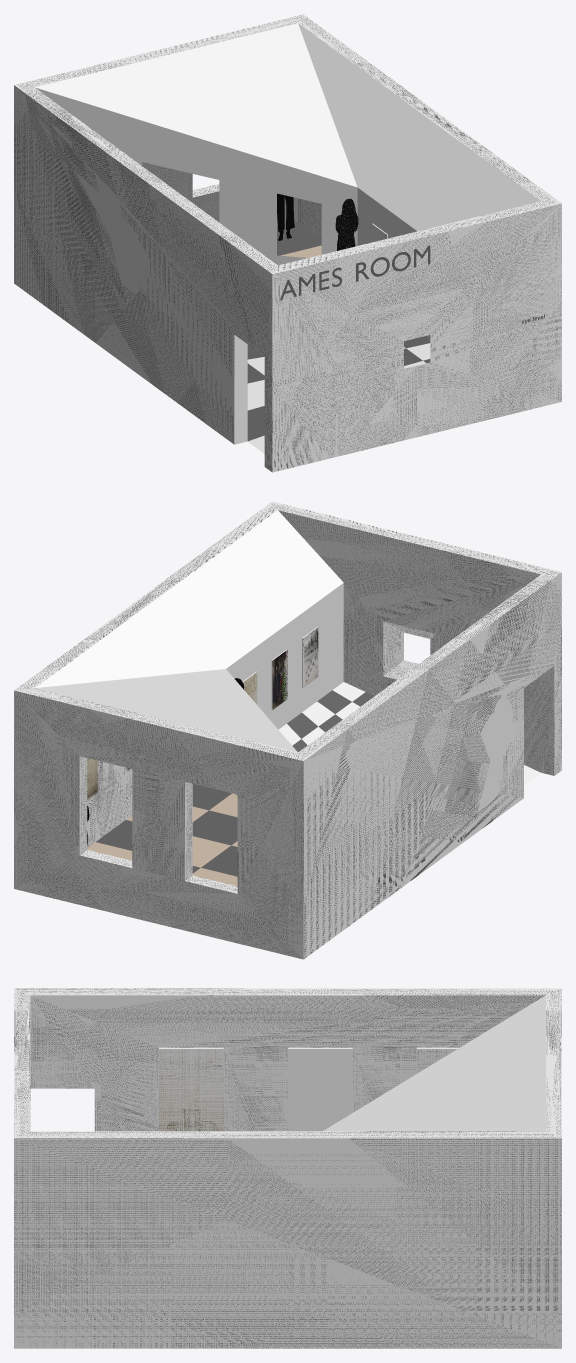
3 renders of one model, top to bottom at view 1: azimuth 30°, elevation 25°; view 2: azimuth 150°, elevation 25°; view 3: azimuth 270°, elevation 25°, orthographic. The views are drawn at different scales.
Visible parts, largest first — view 1: SketchUp (×4), _2d_silhouette__woman_standing (×2); view 2: SketchUp (×7), image_3, image_4; view 3: SketchUp (×5), image_0, image_2.
Boxes of the visible parts, bbox=[...] form: SketchUp (×4): bbox=[14, 14, 561, 472]; _2d_silhouette__woman_standing (×2): bbox=[277, 193, 358, 250]; SketchUp (×7): bbox=[14, 501, 561, 959]; image_3: bbox=[272, 650, 287, 709]; image_4: bbox=[303, 627, 318, 687]; SketchUp (×5): bbox=[14, 988, 561, 1348]; image_0: bbox=[288, 1049, 352, 1131]; image_2: bbox=[159, 1049, 223, 1131].
Size of the model in its own units: 217 by 335 by 142.
